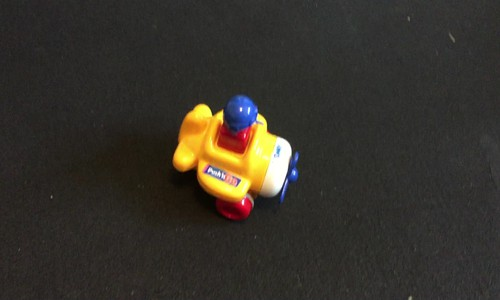toy: (169, 90, 315, 222)
